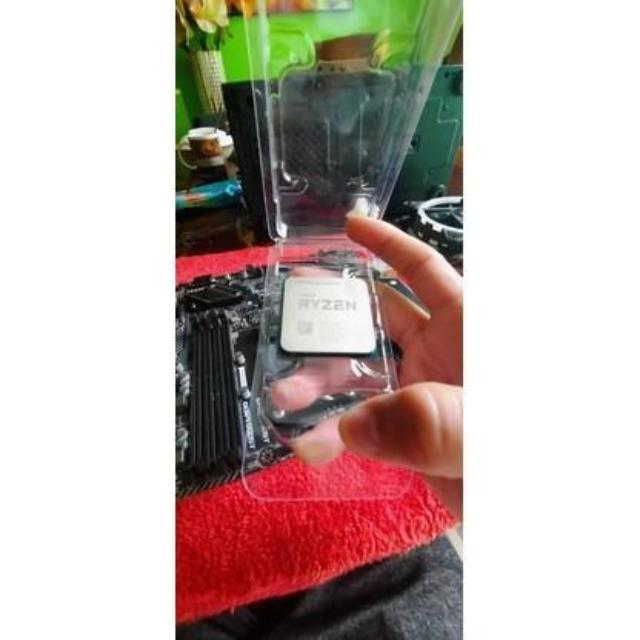CPU: (274, 272, 380, 363)
